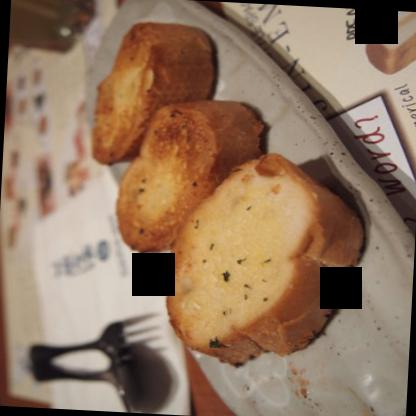toast bread: (166, 152, 370, 366), (113, 99, 269, 263), (85, 17, 224, 168)
